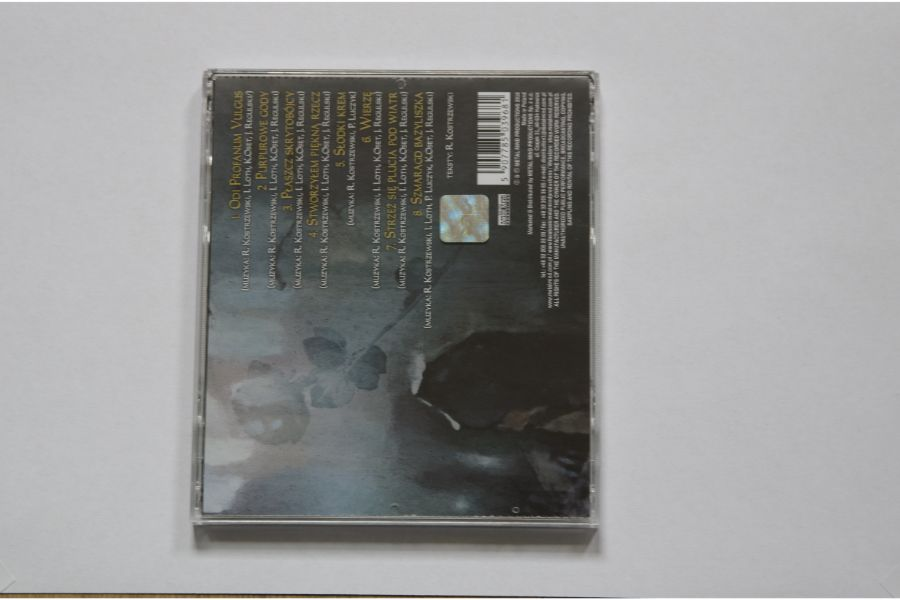album: (194, 68, 597, 532)
